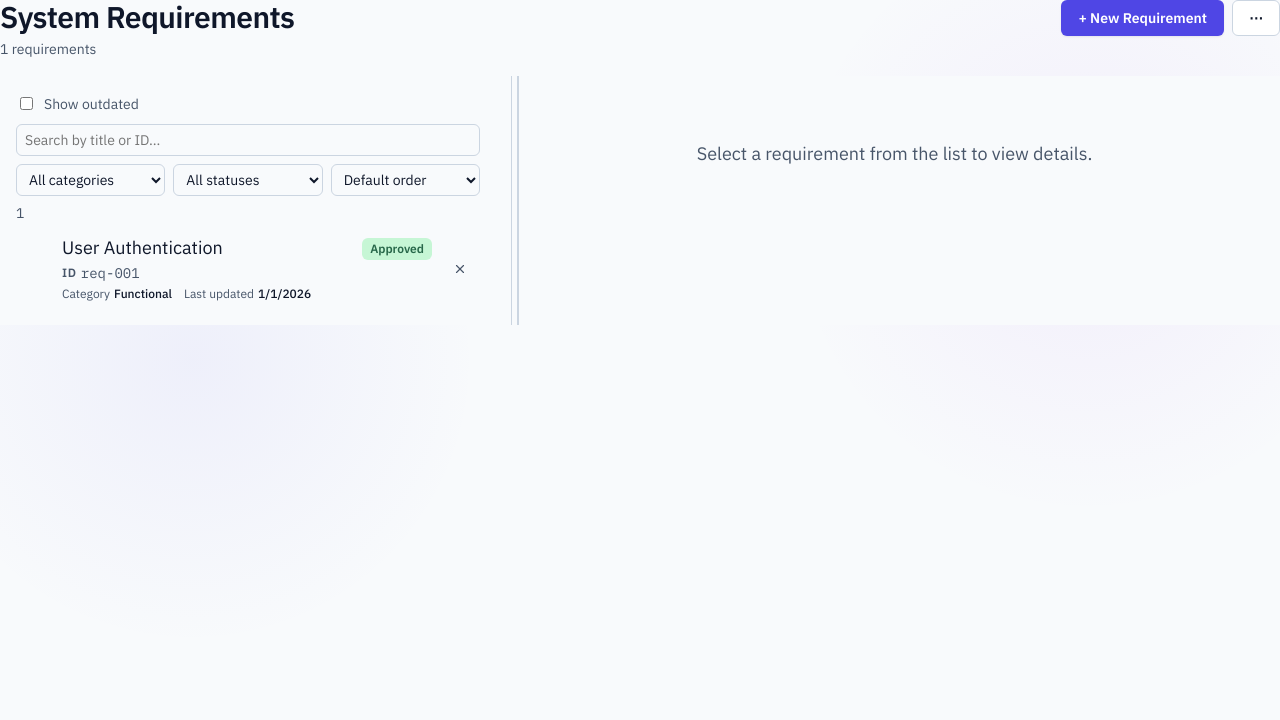
Test case: RequirementEditors — server validation errors are visible (#339/#340) › renders the server's rejection reason when a create is refused
The image size is (1280, 720).
Step 1. Click the button with test id "create-req-btn" → (1143, 18), box 1061,0 -> 1224,36
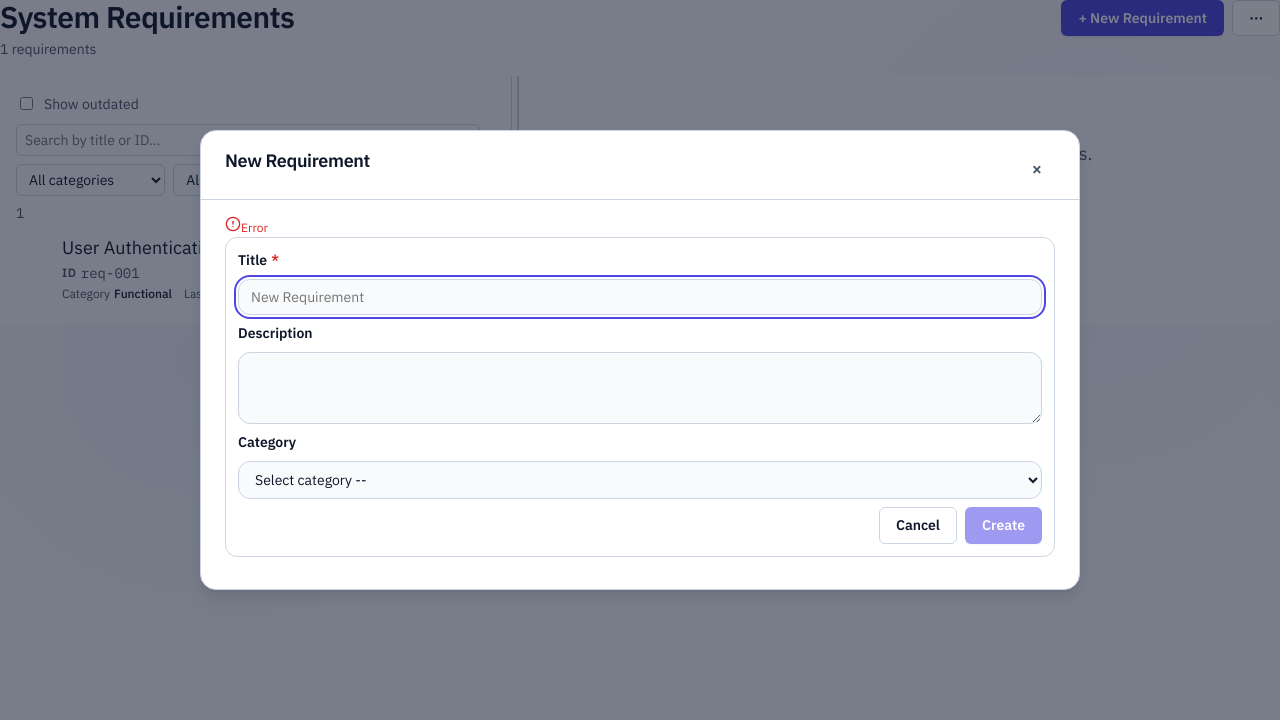
Now the form with test id "create-req-form" is shown, box 225,237 -> 1055,557
Step 2. Type "<script>alert(1)</script>" into the field with test id "req-new-title-input" → (640, 297), box 238,279 -> 1042,315
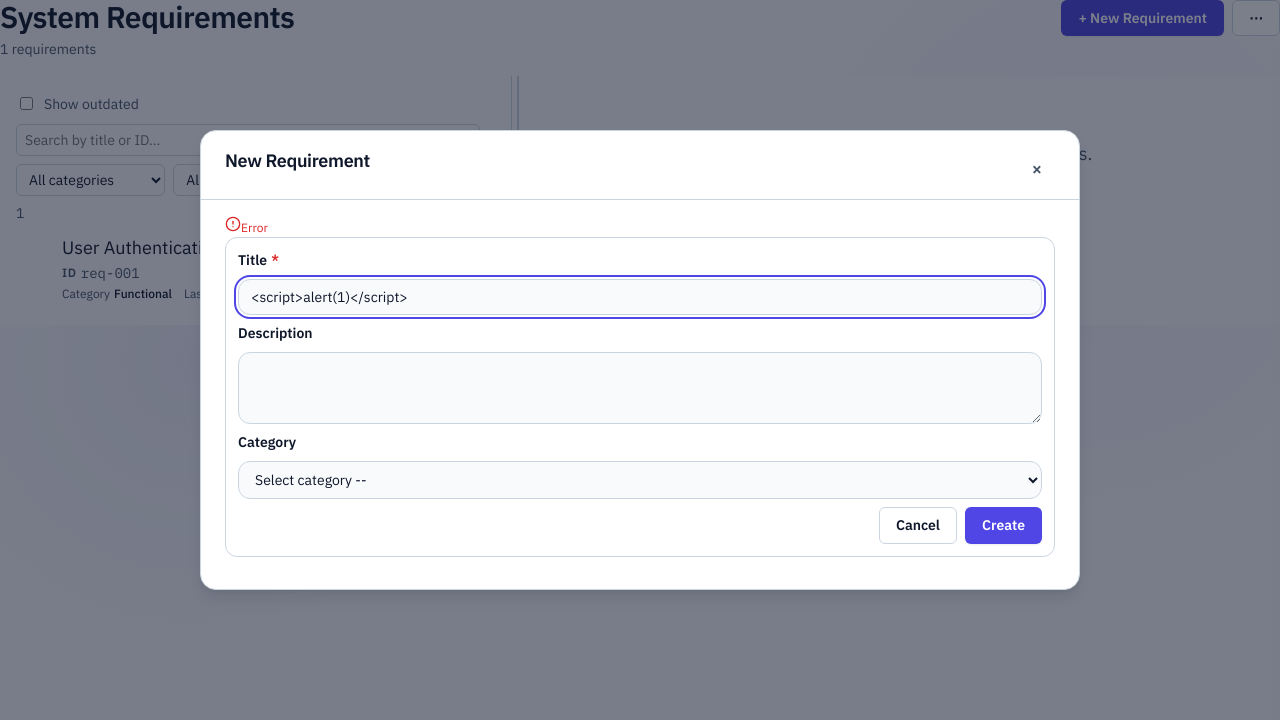
Step 3. Click the button with test id "req-new-save-btn" → (1004, 526), box 965,507 -> 1042,544
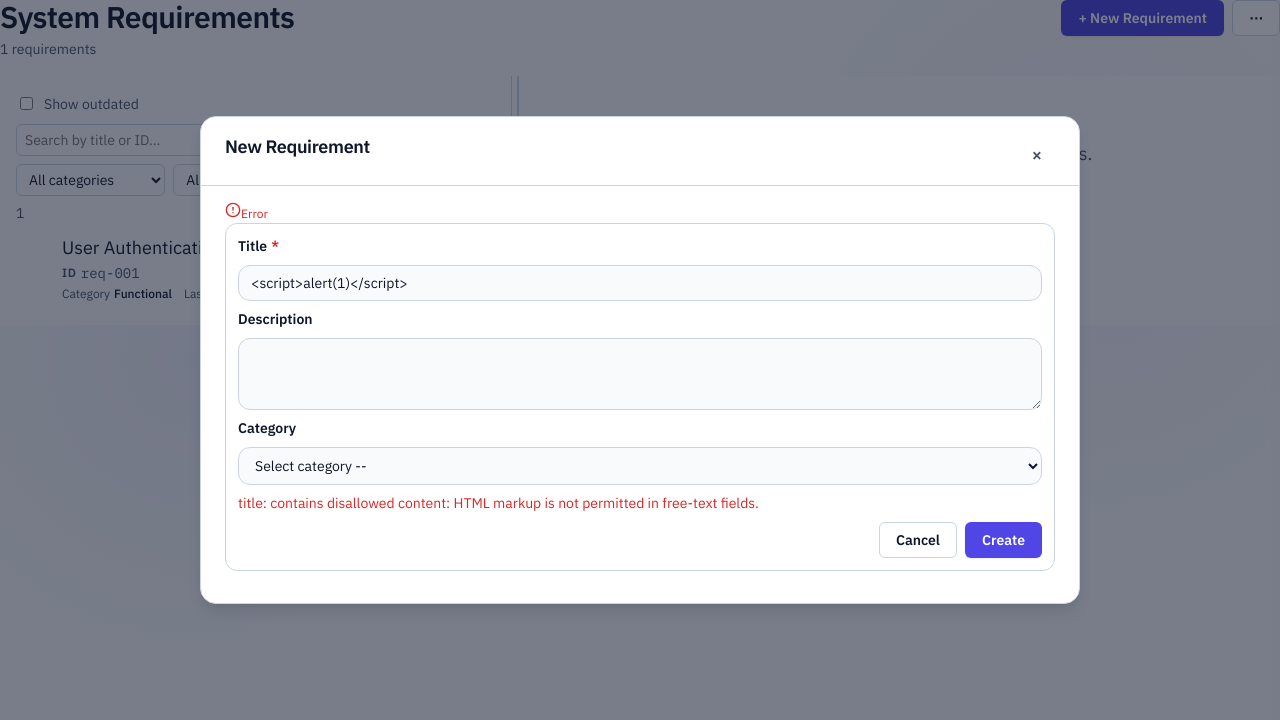
Now the message with test id "req-create-error" shows "HTML markup is not permitted in free-text fields.", box 238,494 -> 759,512
